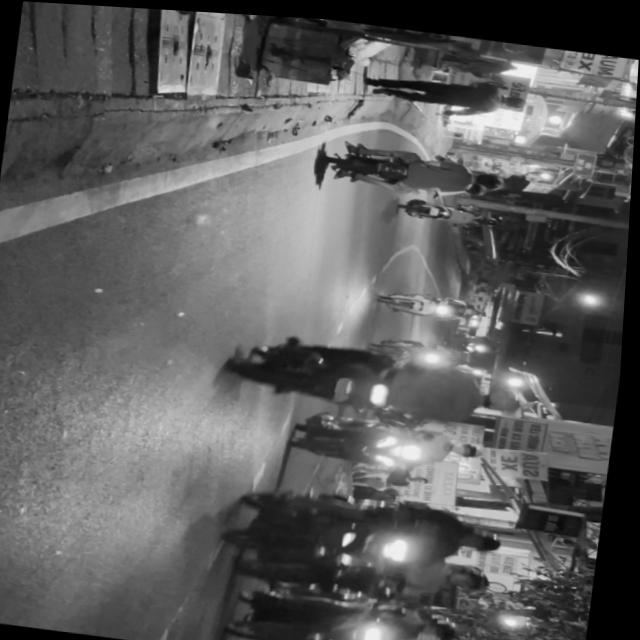helmet: (448, 559, 499, 590), (463, 520, 508, 550), (483, 383, 527, 410), (427, 614, 467, 640), (455, 435, 489, 453)
licenseplate: (228, 323, 534, 430), (228, 465, 513, 578), (230, 576, 482, 640), (290, 403, 492, 478), (317, 133, 511, 201)
motorcyclist: (473, 164, 507, 186)
nohelmet: (337, 372, 364, 401)
